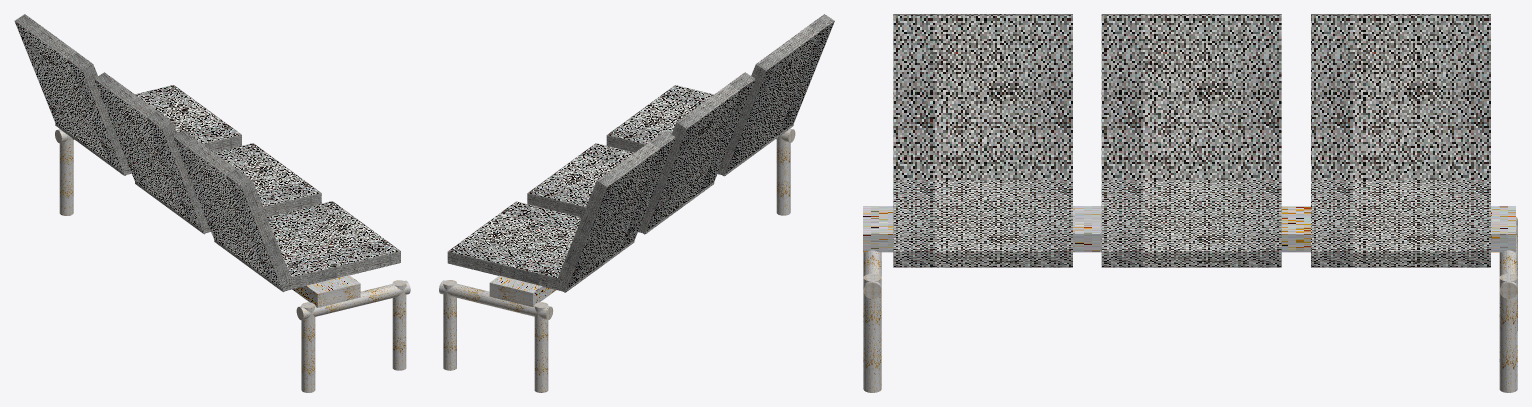
The model's file is scameika.glb.
3 views of the same model, side by side, from view 1: azimuth 30°, elevation 25°; view 2: azimuth 150°, elevation 25°; view 3: azimuth 270°, elevation 25° (orthographic). The views are drawn at different scales.
Parts seen in each view (by area): view 1: Куб.005, Куб; view 2: Куб.005, Куб; view 3: Куб.005, Куб.
Part boxes in pixels (x1,y1,x2,y2): Куб.005: (14, 14, 400, 292); Куб: (55, 129, 410, 392); Куб.005: (447, 14, 834, 292); Куб: (439, 128, 795, 392); Куб.005: (893, 14, 1490, 267); Куб: (863, 206, 1517, 392).
Size of the model in its own units: 7.37 by 9.55 by 19.93.
Materials: 2 (2 with a texture image).
